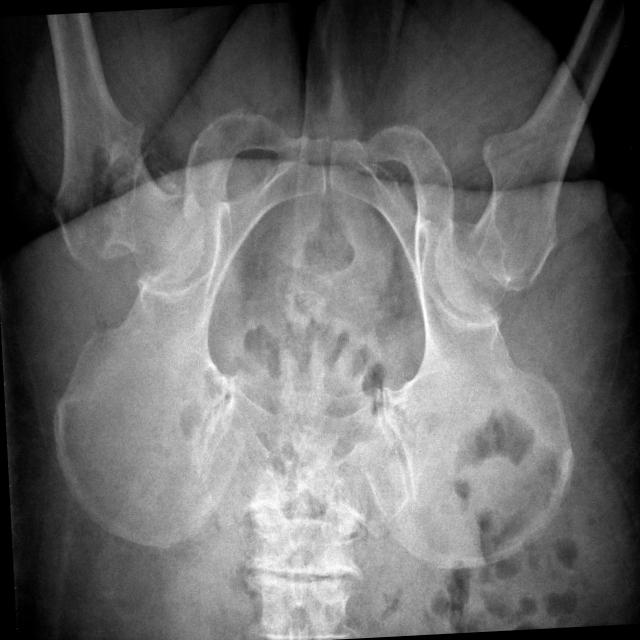left-intertrochanteric: (51, 36, 144, 272), (103, 161, 204, 283)
normal-right: (434, 65, 588, 314)
